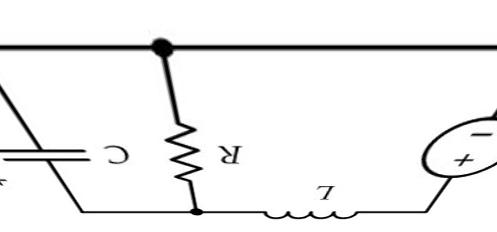inductor: (256, 194, 364, 228)
